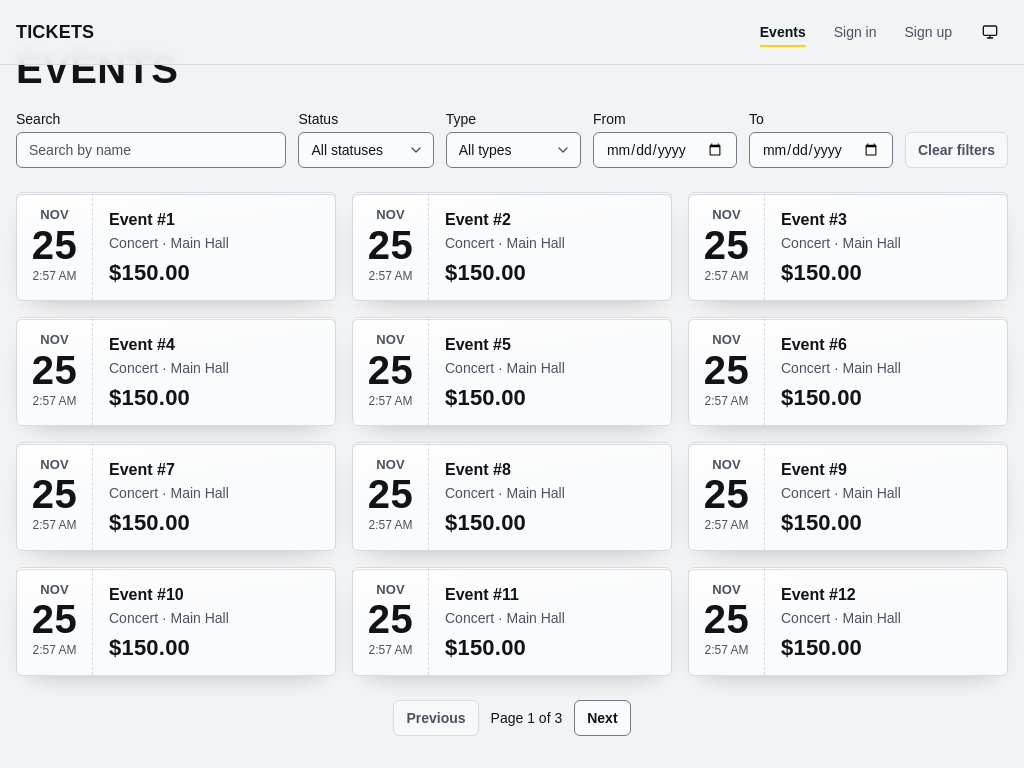
EventsPage › moves to the next page and stores it in the URL
The image size is (1024, 768).
(page scrolled)
Expected: the text "Page 1 of 3" is shown, [491,708,562,728]
Click the button "Next".
click(602, 718)  # box [574,700,631,736]
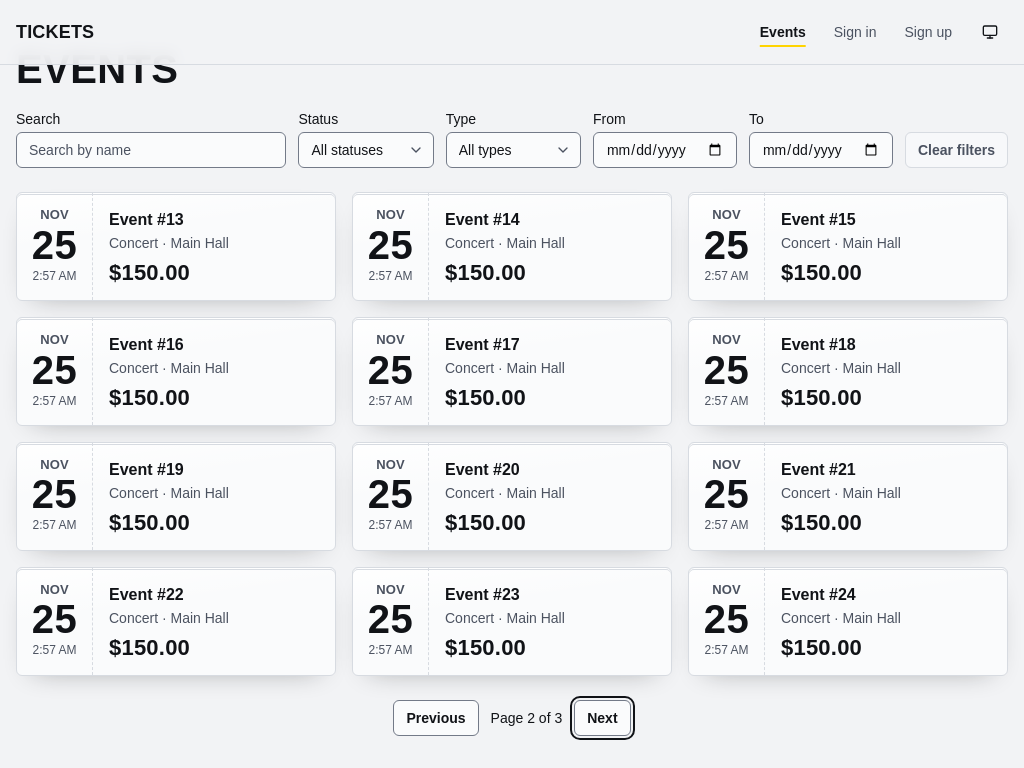
Result: the text "Page 2 of 3" is shown at [491,708,562,728]
Result: the heading "Event #13" is shown at [109,211,184,228]
